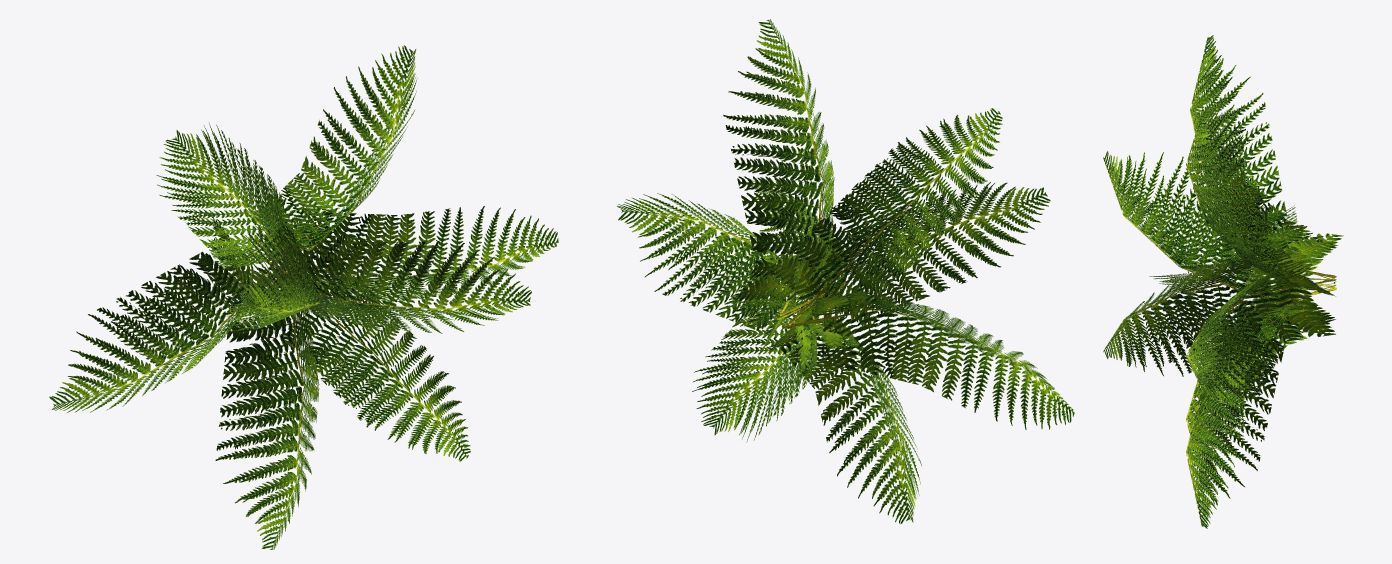
Rendered from TropicFern01.obj.
3 views of the same model, side by side, from view 1: azimuth 30°, elevation 25°; view 2: azimuth 150°, elevation 25°; view 3: azimuth 270°, elevation 25° (orthographic). The views are drawn at different scales.
Parts seen in each view (by area): view 1: obj2, obj1; view 2: obj1, obj2; view 3: obj2, obj1.
Part boxes in pixels (<box>): obj2: <box>49,45,558,549</box>; obj1: <box>49,46,558,549</box>; obj1: <box>617,19,1074,524</box>; obj2: <box>618,20,1073,522</box>; obj2: <box>1103,35,1341,528</box>; obj1: <box>1103,35,1343,527</box>.
Bounding box in the file's own units: 1.83 × 1.78 × 0.925.
1 material, 1 textured.
